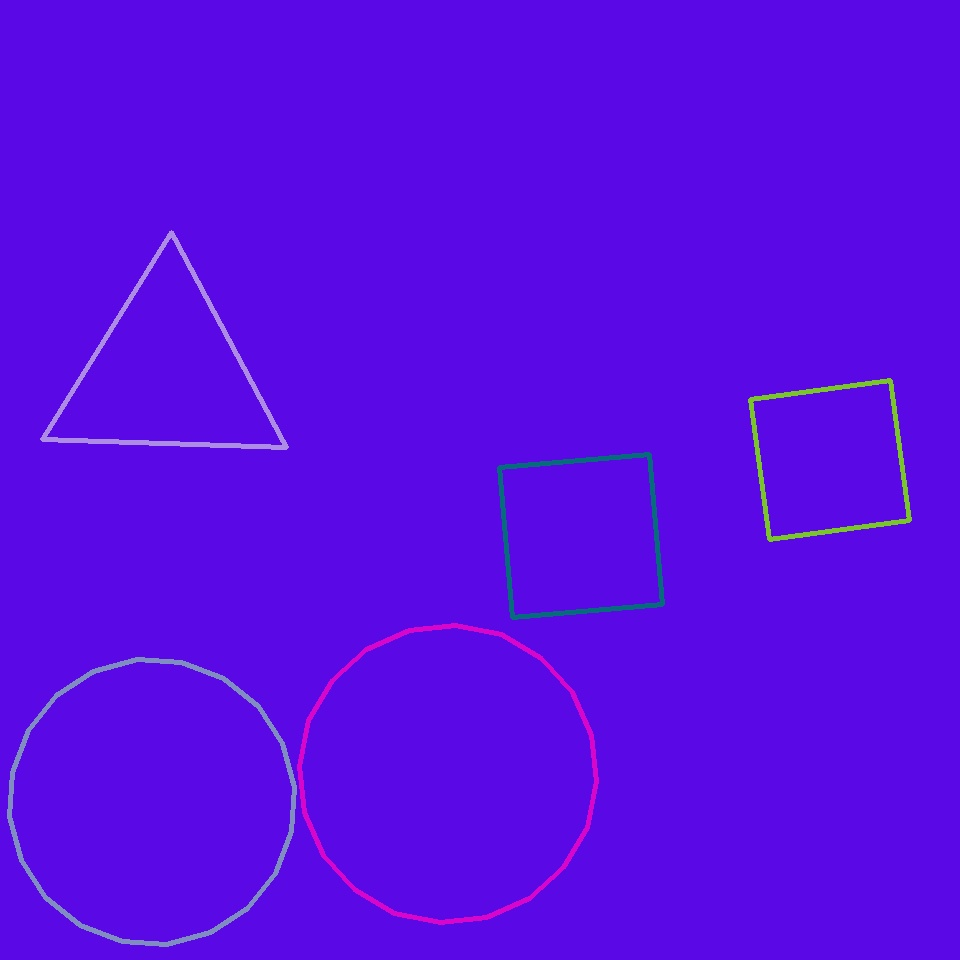circle: (45, 266, 289, 480)
square: (499, 454, 663, 618), (751, 380, 910, 540)
triangle: (300, 626, 596, 922), (9, 660, 294, 944)
